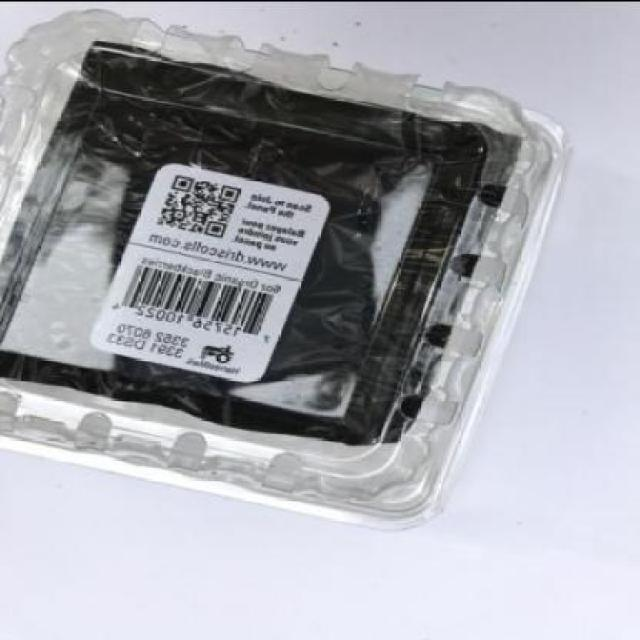PLASTIC: (1, 7, 574, 530)
